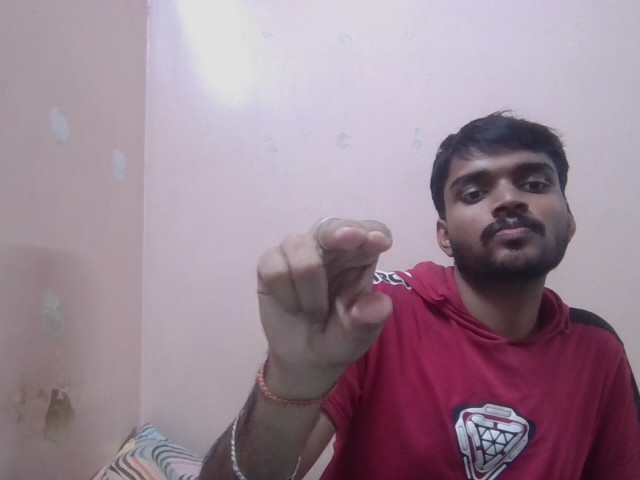No: (251, 213, 396, 353)
